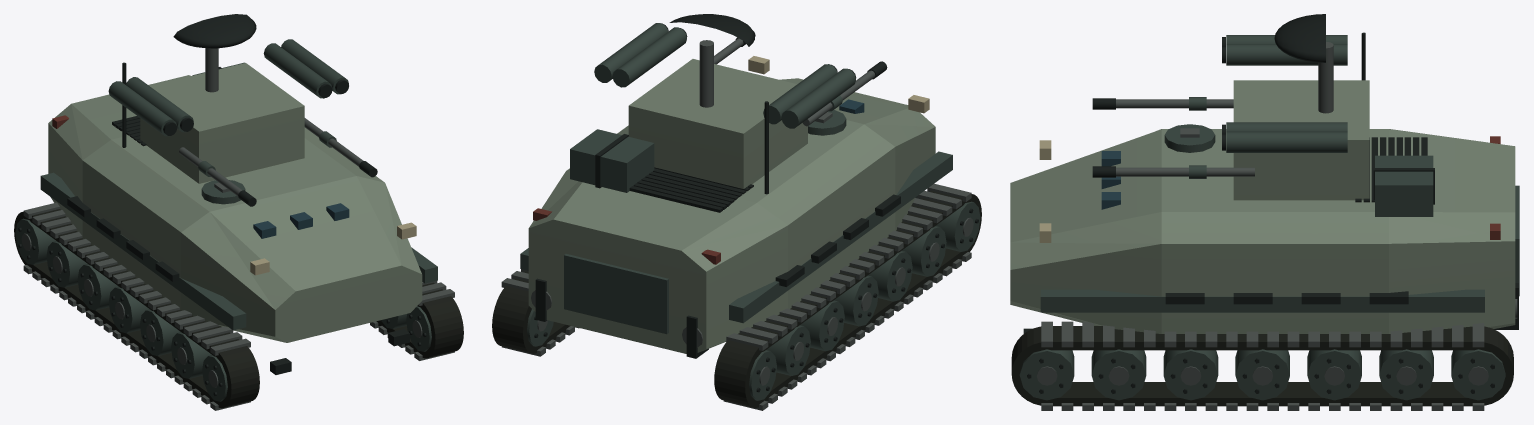
File: spaa.glb
3 views of the same model, side by side, from view 1: azimuth 30°, elevation 25°; view 2: azimuth 150°, elevation 25°; view 3: azimuth 270°, elevation 25° (orthographic). The views are drawn at different scales.
Parts seen in each view (by area): view 1: armor (×2), equipment (×6), glass; view 2: armor (×2), equipment (×5); view 3: armor (×2), equipment (×6), glass.
Boxes of the visible parts, x1,y1,x2,y2 form: armor (×2): (48, 63, 422, 342); equipment (×6): (14, 14, 463, 410); glass: (253, 203, 349, 238); armor (×2): (528, 59, 935, 353); equipment (×5): (492, 14, 981, 410); armor (×2): (1010, 80, 1515, 333); equipment (×6): (1011, 14, 1519, 410); glass: (1101, 151, 1120, 209).
Size of the model in its own units: 3.31 by 3.59 by 5.24.
